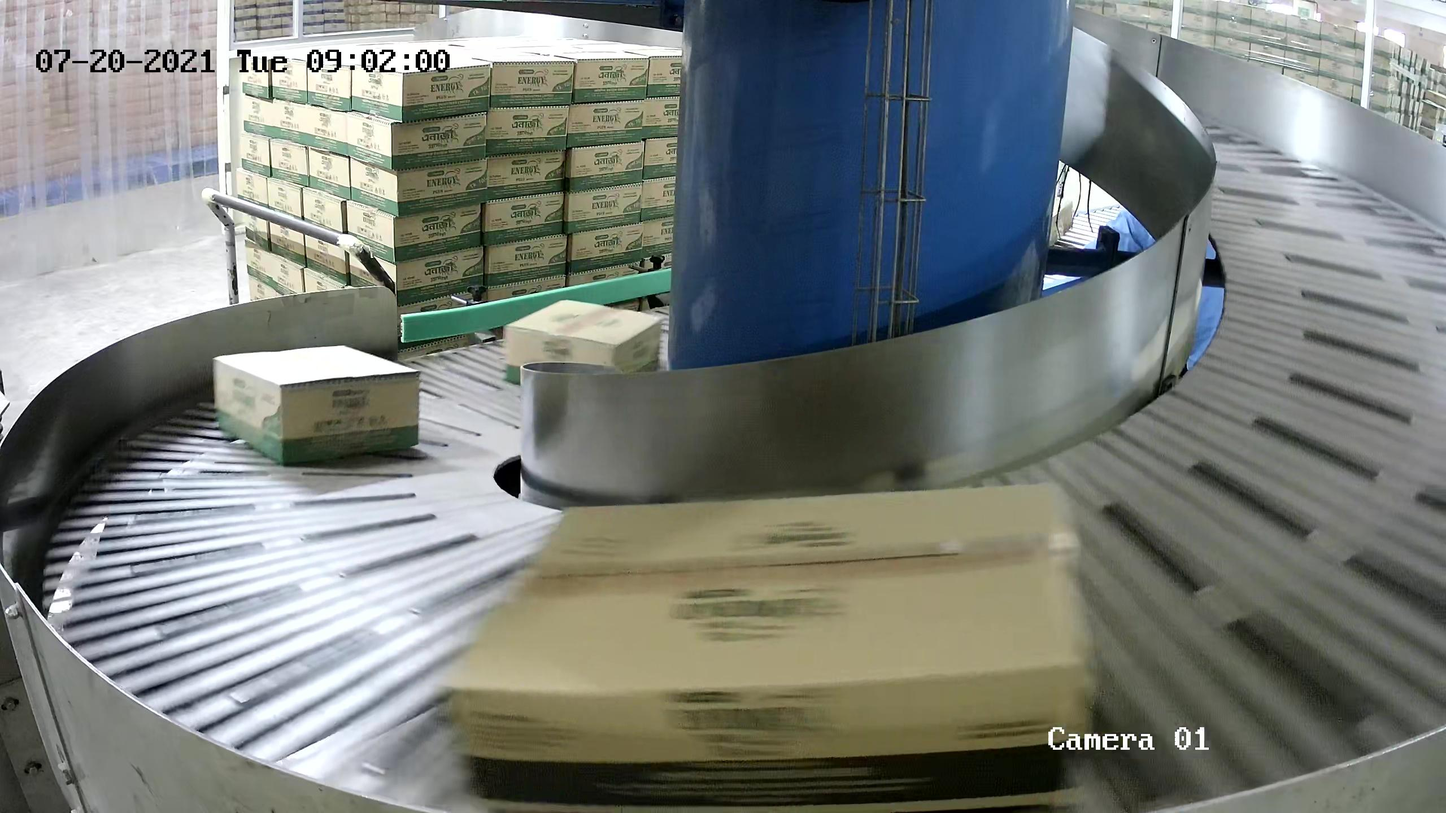Box: (439, 475, 1094, 813), (210, 342, 423, 468), (500, 298, 663, 391)
